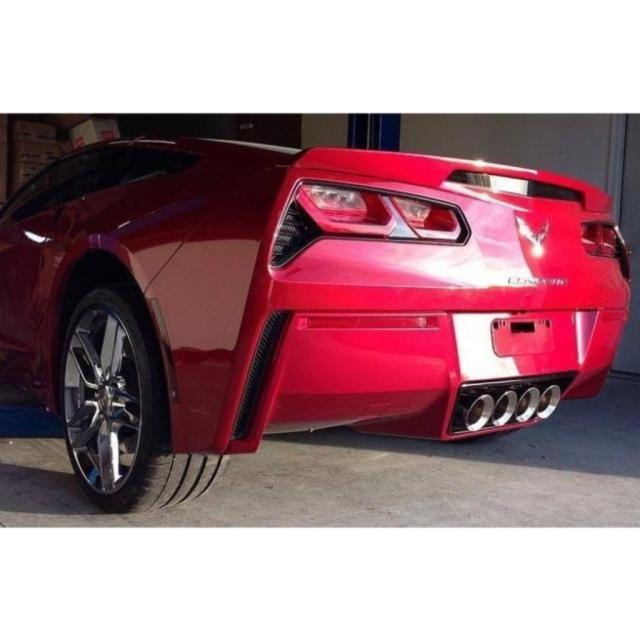car: (11, 127, 622, 489)
